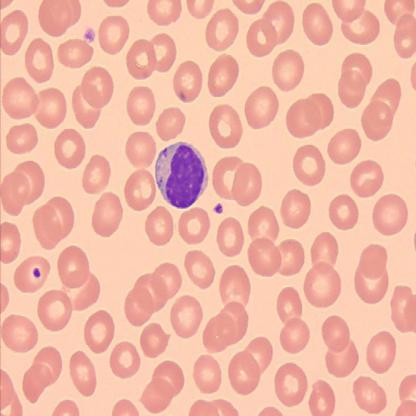Lymphocyte: (154, 140, 209, 210)
